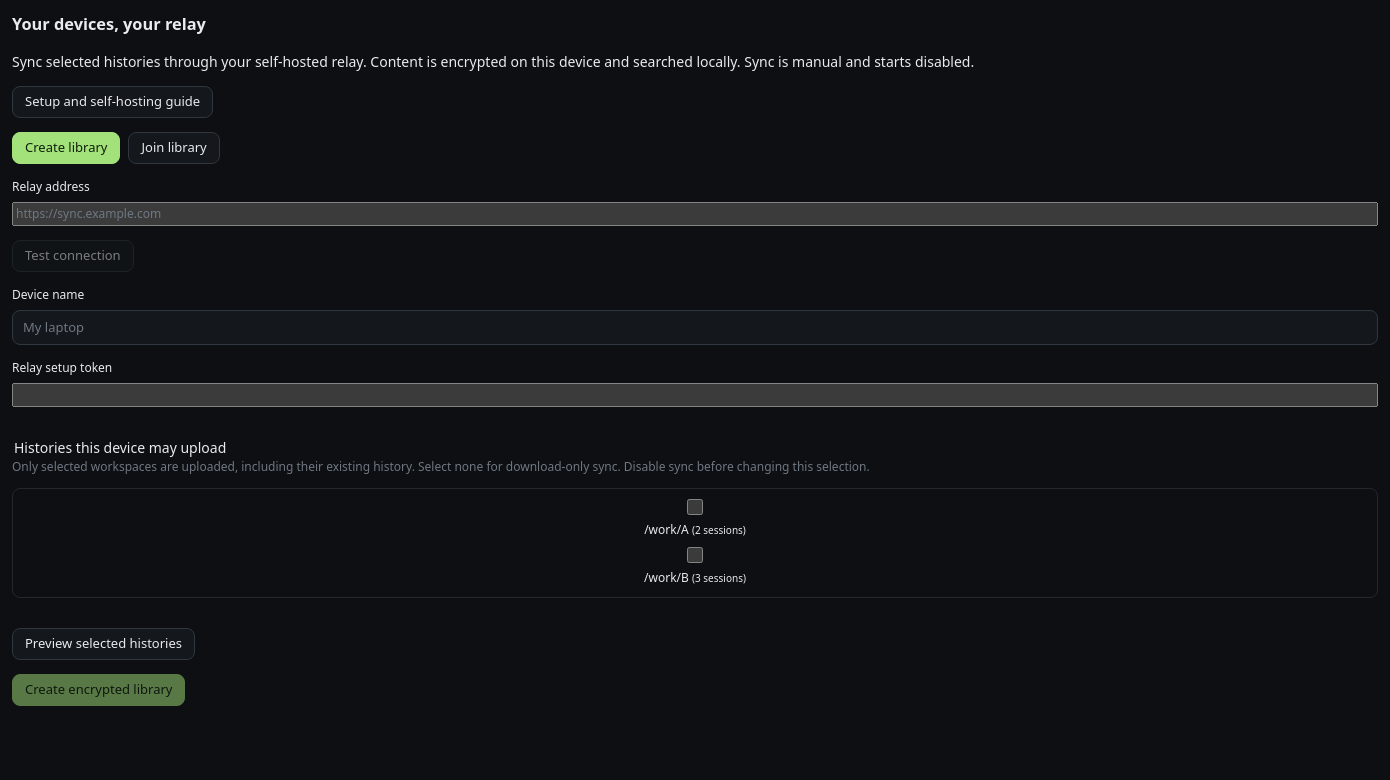
Test: testing a relay is an explicit action and does not create keys or upload histories
The width and height of the screenshot is (1390, 780).
Type "https://relay.example.test" into the field labelled "Relay address" at {"x": 695, "y": 214}, box [12,202,1378,226]
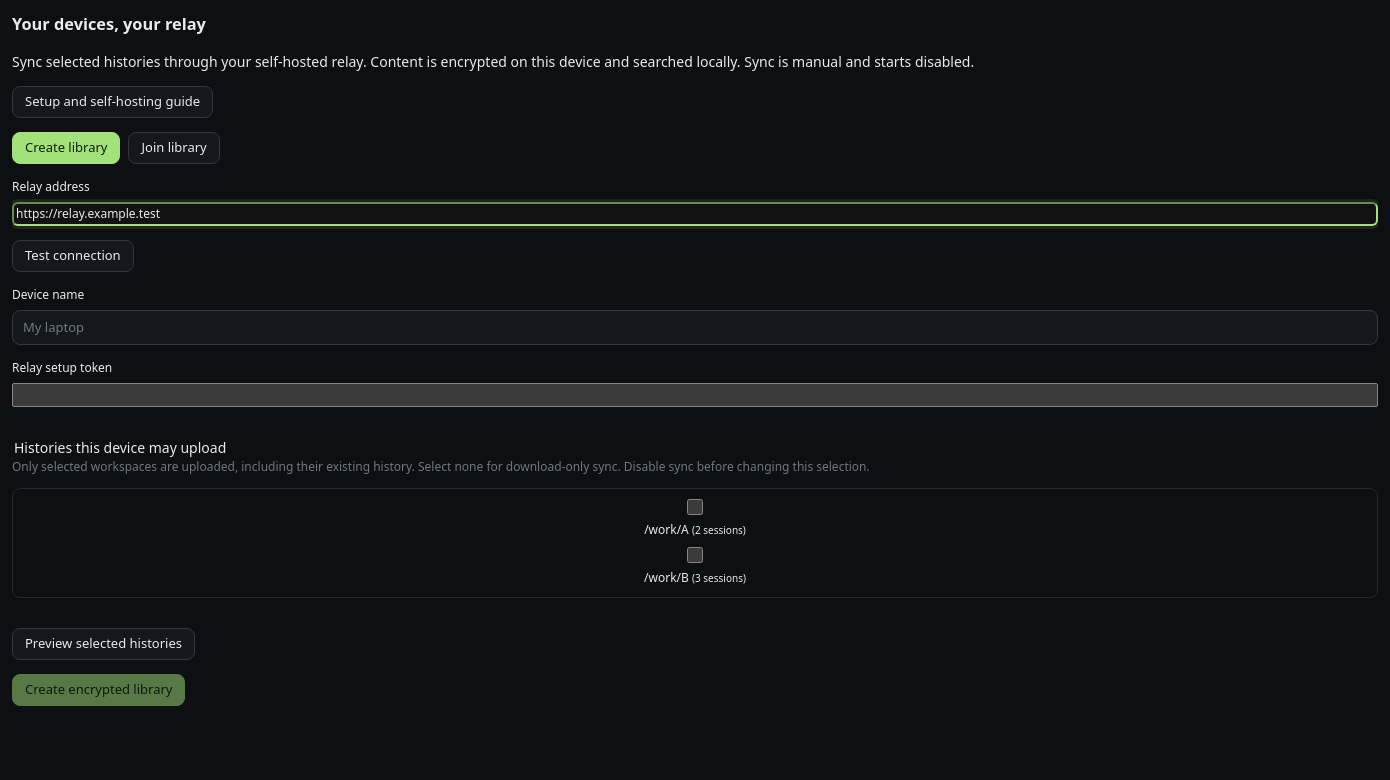
Click the button "Test connection" at {"x": 73, "y": 256}, box [12,240,134,272]
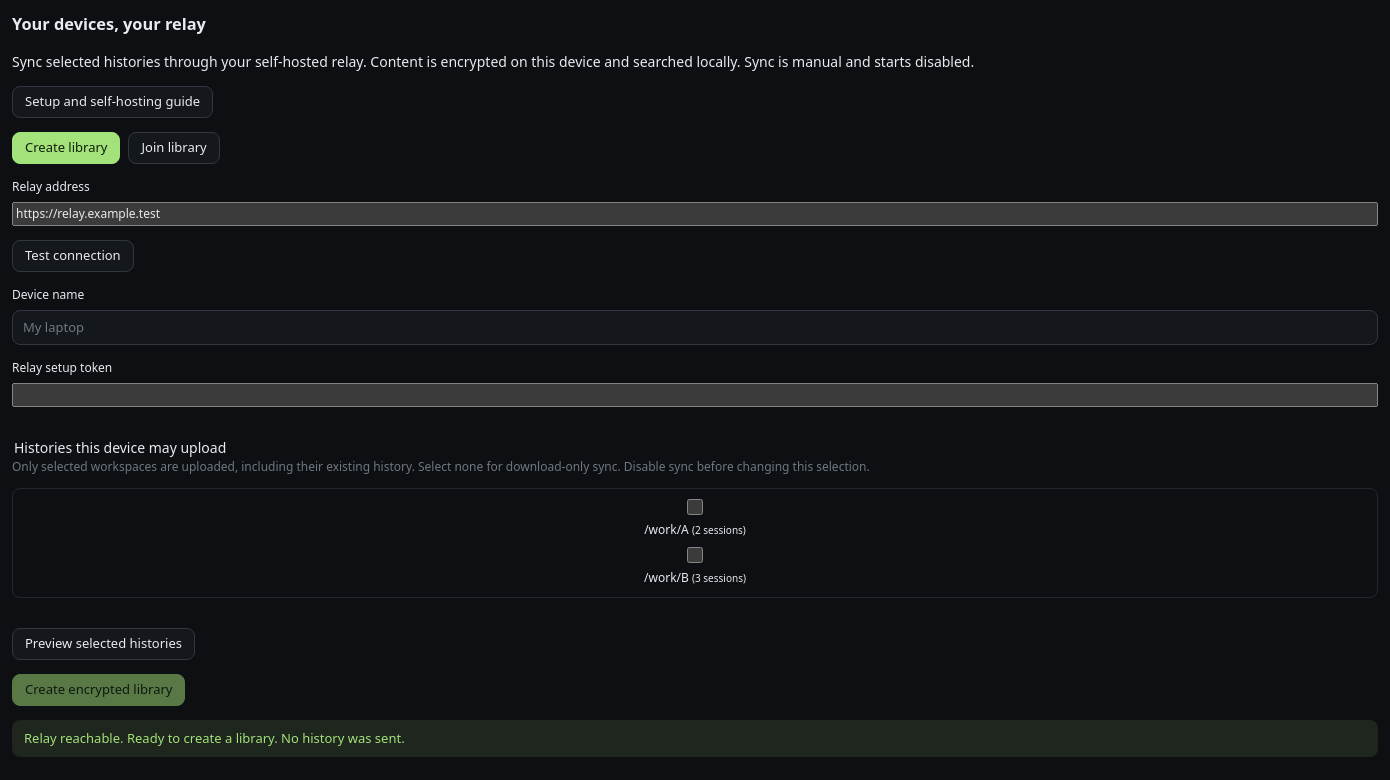
Now the text "Relay reachable. Ready to create a library. No history was sent." is shown, box [12,720,1378,757]
